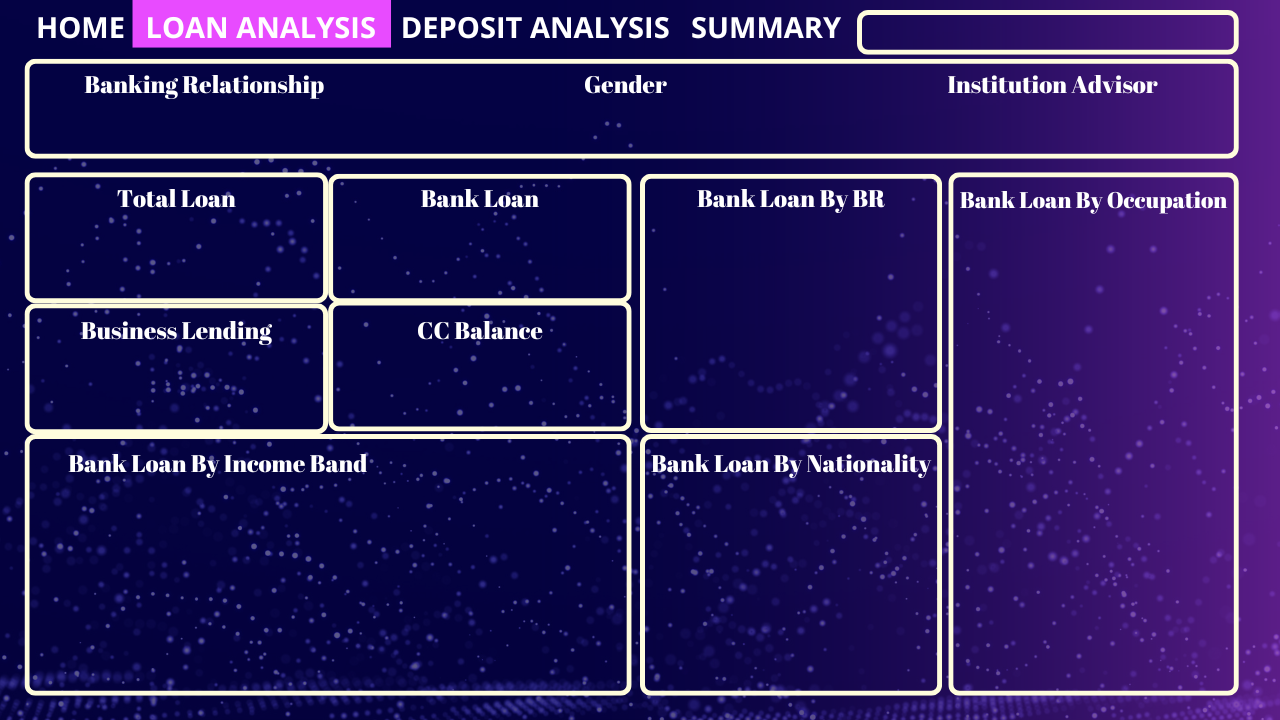

The dashboard page shown, as its layout file describes it:
{"tool":"powerbi","page":{"name":"Loan Analysis","canvas":[1280,720],"ordinal":1},"visuals":[{"type":"slicer","fields":{"Values":["Banking.joined year"]},"box":[858.4,11.8,381.3,33.6],"z":0},{"type":"card","fields":{"Values":["own measure.total loan"]},"box":[63.8,186.5,226.8,120.9],"z":1000},{"type":"card","fields":{"Values":["Sum(Banking.Bank Loans)"]},"box":[364.5,186.5,226.8,120.9],"z":2000},{"type":"card","fields":{"Values":["Sum(Banking.Business Lending)"]},"box":[63.8,320.8,226.8,120.9],"z":3000},{"type":"card","fields":{"Values":["Sum(Banking.Credit Card Balance)"]},"box":[364.5,320.8,226.8,120.9],"z":4000},{"type":"donutChart","fields":{"Category":["Banking.Income Band"],"Y":["Sum(Banking.Bank Loans)"]},"box":[63.8,470.3,527.5,216.7],"z":5000},{"type":"clusteredColumnChart","fields":{"Category":["Banking.BRId"],"Y":["Sum(Banking.Bank Loans)"]},"box":[640,216.7,292.3,225.1],"z":6000},{"type":"clusteredColumnChart","fields":{"Y":["Sum(Banking.Bank Loans)"],"Category":["Banking.Nationality"]},"box":[640,483.8,292.3,225.1],"z":7000},{"type":"clusteredColumnChart","fields":{"Category":["Banking.Occupation"],"Y":["Sum(Banking.Bank Loans)"]},"box":[947.4,216.7,292.3,492.2],"z":8000},{"type":"slicer","fields":{"Values":["Banking.BRId"]},"box":[16.8,102.5,430,33.6],"z":9000},{"type":"slicer","fields":{"Values":["Banking.GenderId"]},"box":[446.8,102.5,361.2,33.6],"z":10000},{"type":"slicer","fields":{"Values":["Banking.IAId"]},"box":[858.4,102.5,361.2,45.4],"z":11000},{"type":"actionButton","box":[30.2,11.8,99.1,33.6],"z":12000},{"type":"actionButton","box":[396.4,0,277.2,45.4],"z":13000},{"type":"actionButton","box":[683.9,10.1,163.4,37.6],"z":14000}]}

Visuals, with their boxes in screenshot pixels (x1, y1, x2, y2), scaled from the page's 1280x720 canvas onto the 1280x720 screenshot:
slicer - Banking.joined year: 858:12:1240:45
card - own measure.total loan: 64:186:291:307
card - Sum(Banking.Bank Loans): 364:186:591:307
card - Sum(Banking.Business Lending): 64:321:291:442
card - Sum(Banking.Credit Card Balance): 364:321:591:442
donutChart - Banking.Income Band x Sum(Banking.Bank Loans): 64:470:591:687
clusteredColumnChart - Banking.BRId x Sum(Banking.Bank Loans): 640:217:932:442
clusteredColumnChart - Sum(Banking.Bank Loans) x Banking.Nationality: 640:484:932:709
clusteredColumnChart - Banking.Occupation x Sum(Banking.Bank Loans): 947:217:1240:709
slicer - Banking.BRId: 17:102:447:136
slicer - Banking.GenderId: 447:102:808:136
slicer - Banking.IAId: 858:102:1220:148
actionButton: 30:12:129:45
actionButton: 396:0:674:45
actionButton: 684:10:847:48
